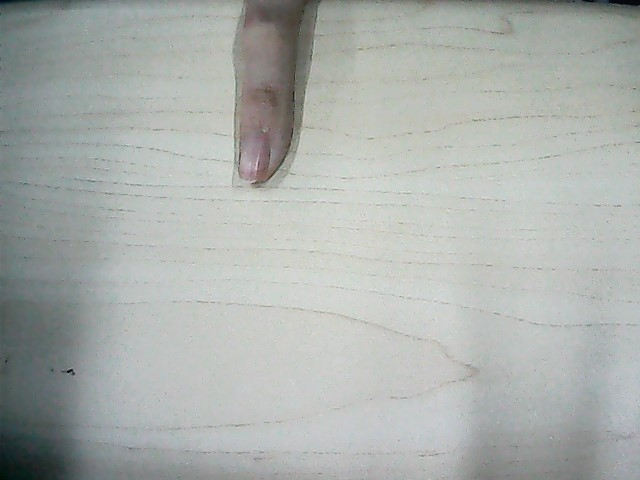nail: (238, 144, 270, 185)
